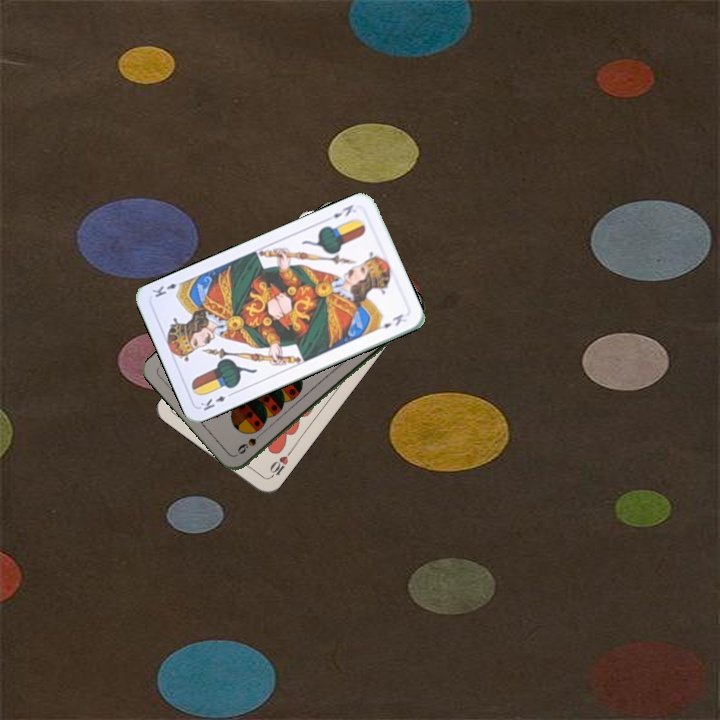EK: (196, 388, 236, 413), (329, 200, 356, 221)
H10: (265, 447, 294, 481)
S9: (233, 427, 267, 457)
